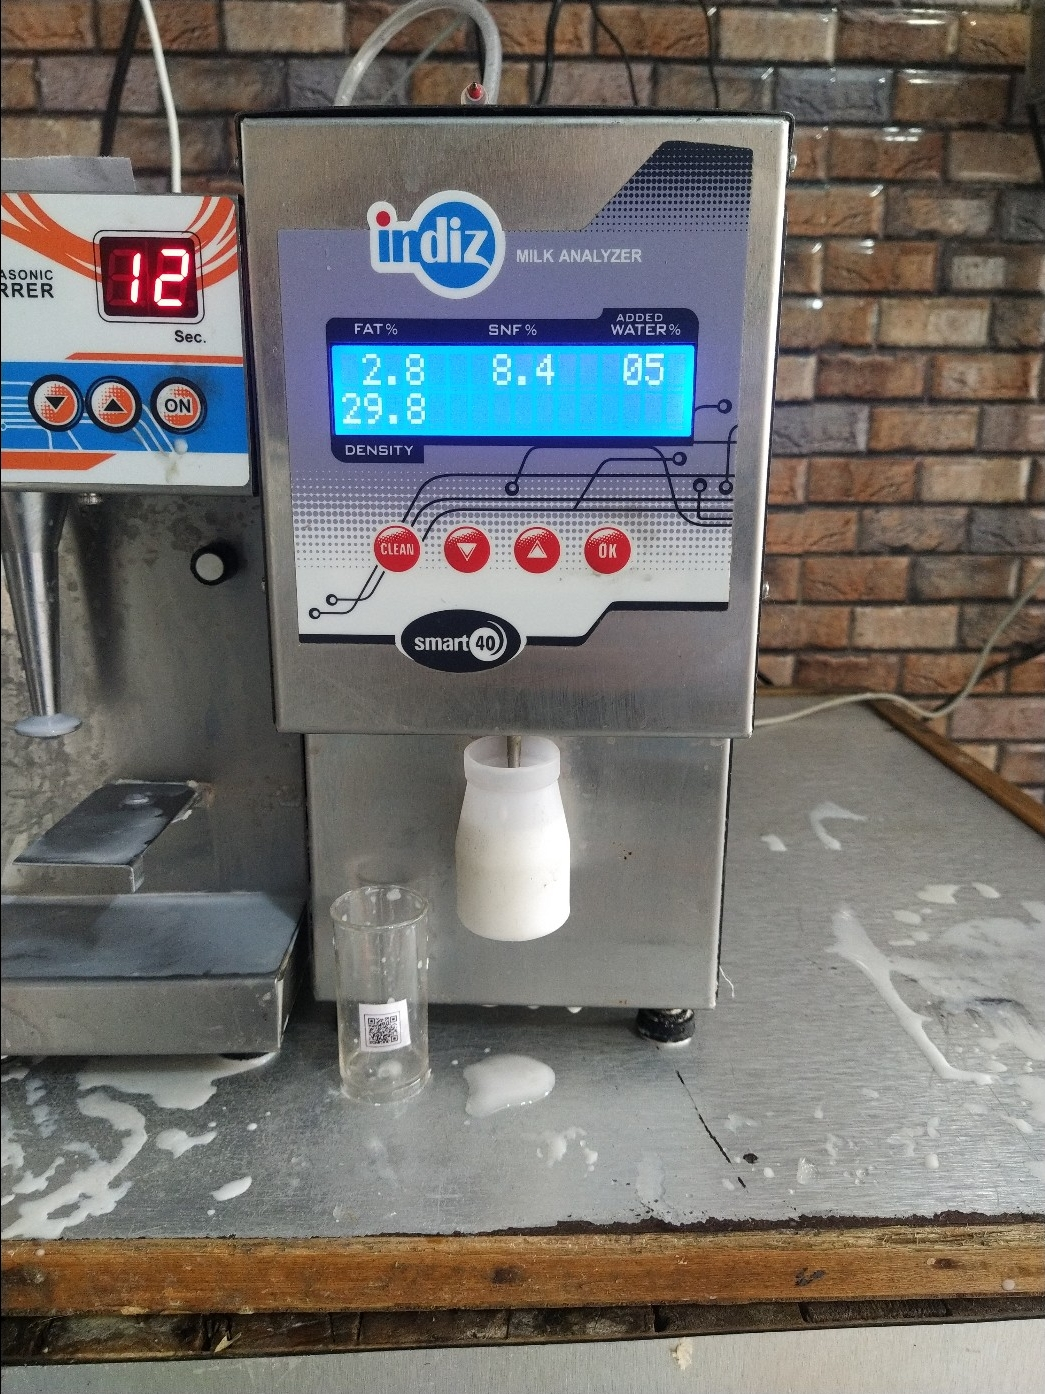lcd: (323, 337, 711, 447)
qr: (360, 996, 413, 1058)
